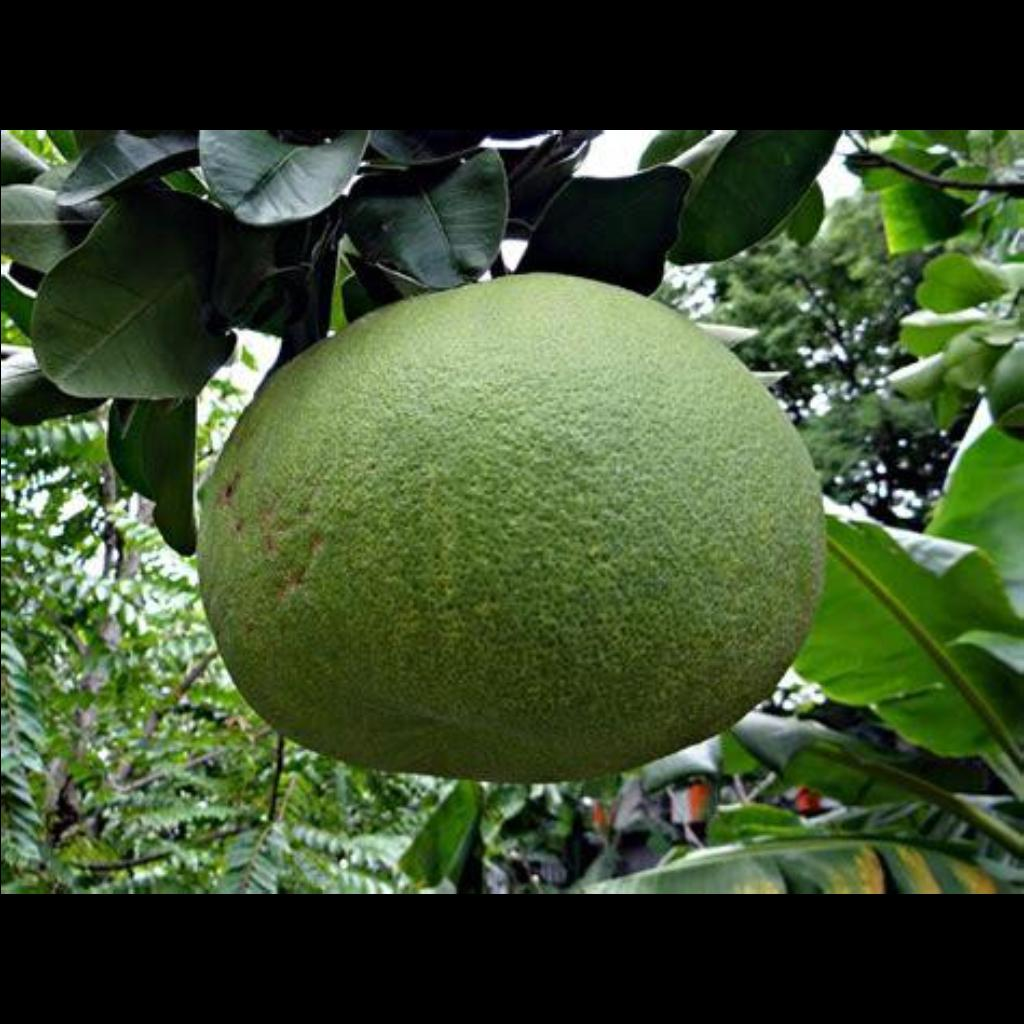fruto_sano: (167, 273, 841, 783)
